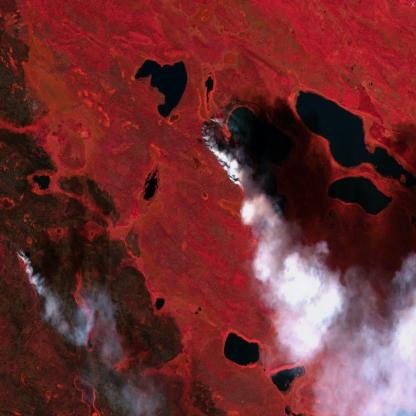fire: (198, 107, 250, 194), (12, 239, 36, 272)
